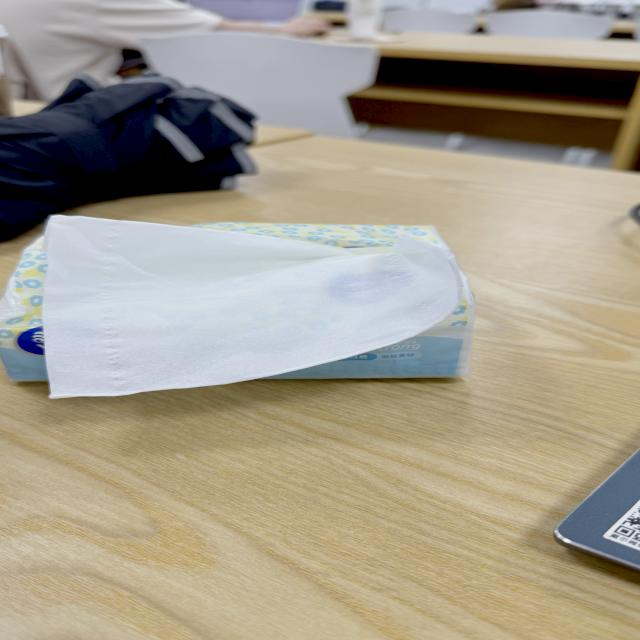tissue: (43, 217, 461, 397), (271, 274, 474, 378)
